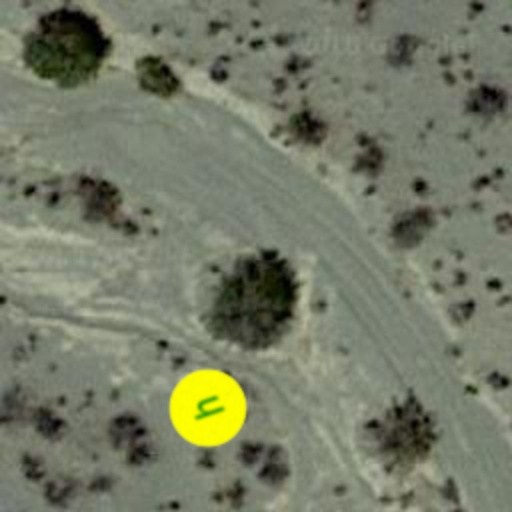circle: (154, 354, 262, 462)
